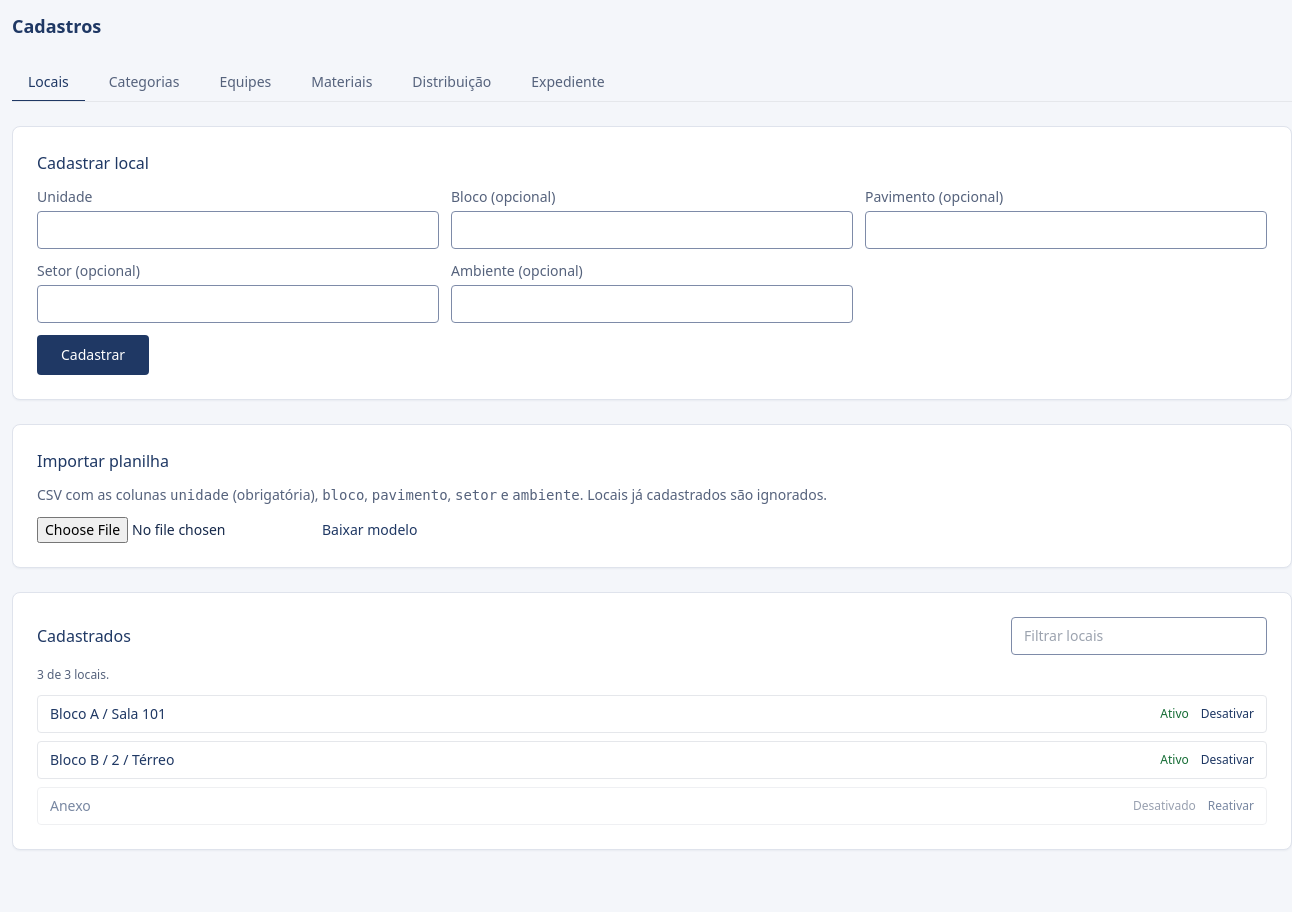
Test case: Filtro de locais › ignora maiúsculas e acha por nível intermediário
Expected: the text "Bloco B / 2 / Térreo" is shown, [50, 750, 174, 770]
Type "TÉRREO" into the search field with placeholder "Filtrar locais". click: (1139, 636)
box: [1011, 617, 1267, 655]
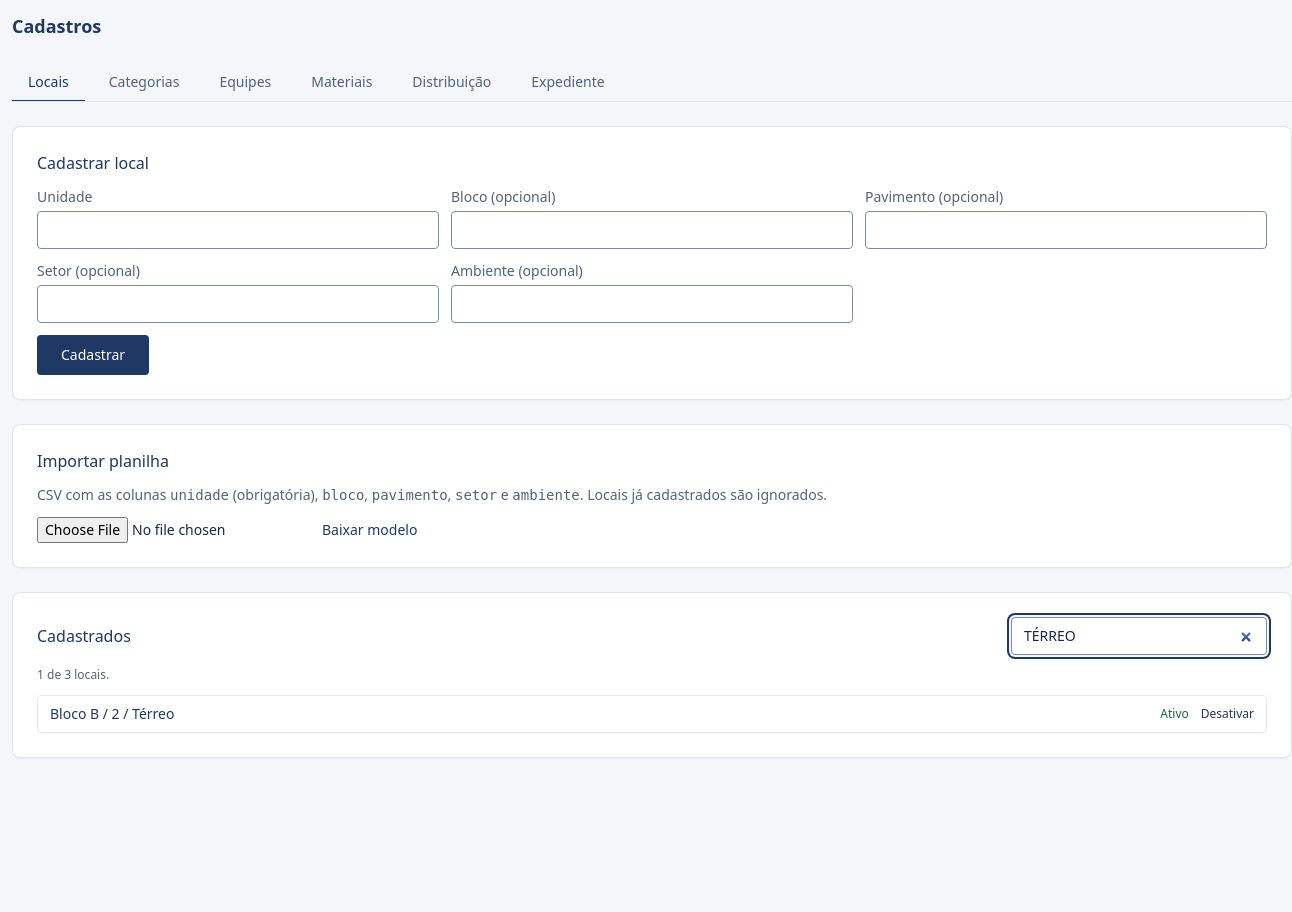
Result: the text "1 de 3 locais." is shown at [37, 666, 109, 683]
